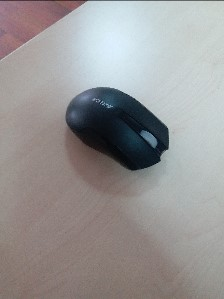mouse: (65, 86, 171, 173)
